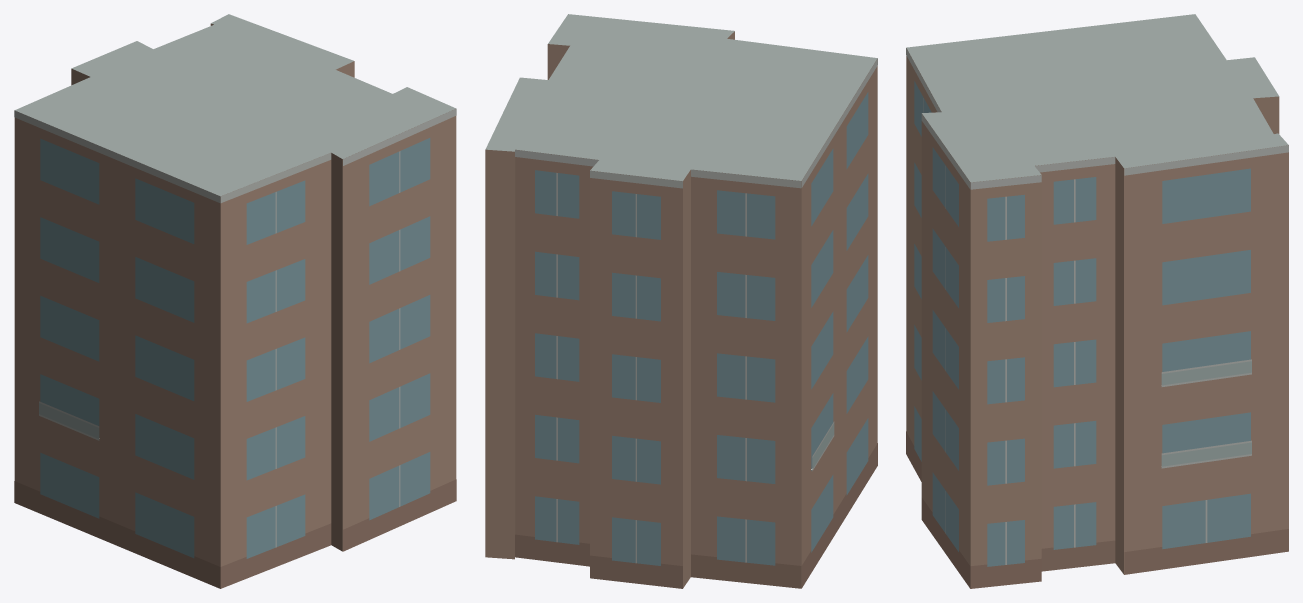
File: survey-upis-32651080.glb
The picture shows the model from 3 angles, left to right: view 1: azimuth 30°, elevation 25°; view 2: azimuth 150°, elevation 25°; view 3: azimuth 270°, elevation 25°; orthographic projection. The views are drawn at different scales.
Parts seen in each view (by area): view 1: survey-upis-32651080.tmp; view 2: survey-upis-32651080.tmp; view 3: survey-upis-32651080.tmp.
Part boxes in pixels (box(x1,y1,x2,y2)): survey-upis-32651080.tmp: box(14, 14, 456, 588); survey-upis-32651080.tmp: box(485, 14, 877, 588); survey-upis-32651080.tmp: box(906, 14, 1288, 588).
Bounding box in the file's own units: 12.08 × 13.58 × 11.59.
